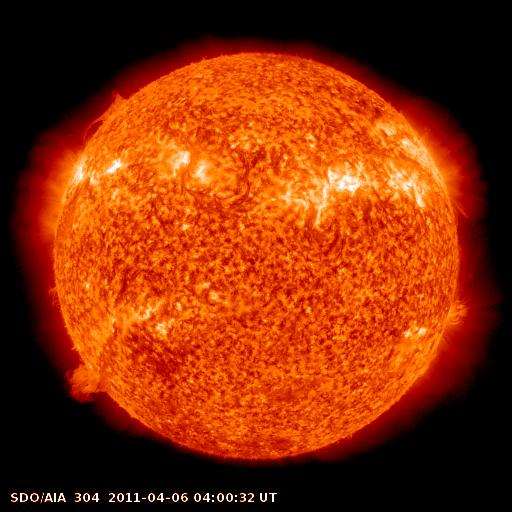prominence: (76, 81, 136, 152), (57, 355, 121, 410), (36, 273, 72, 318)
